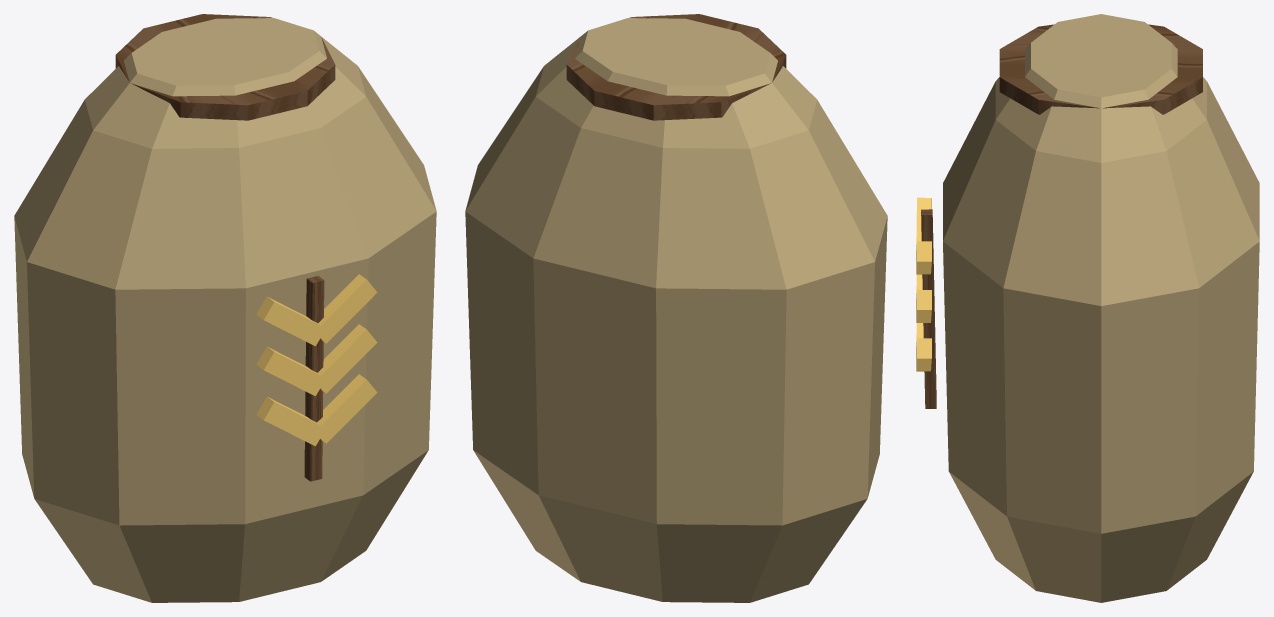
File: FeedSack.fbx
3 views of the same model, side by side, from view 1: azimuth 30°, elevation 25°; view 2: azimuth 150°, elevation 25°; view 3: azimuth 270°, elevation 25° (orthographic). The views are drawn at different scales.
Parts seen in each view (by area): view 1: FeedSack; view 2: FeedSack; view 3: FeedSack.
Part boxes in pixels (left/top/right/bottom): FeedSack: left=14, top=14, right=436, bottom=602; FeedSack: left=465, top=14, right=887, bottom=602; FeedSack: left=916, top=14, right=1259, bottom=602.
Size of the model in its own units: 54 by 65 by 41.76.
